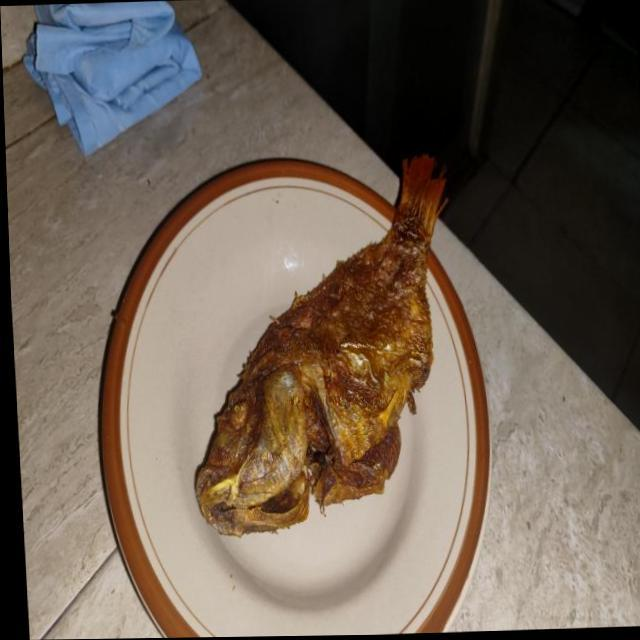ikan_mujair: (196, 154, 444, 536)
